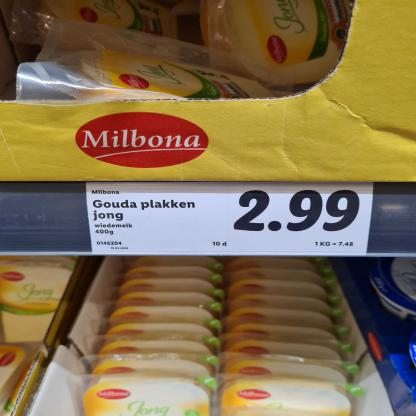prtg: (87, 182, 376, 256)
